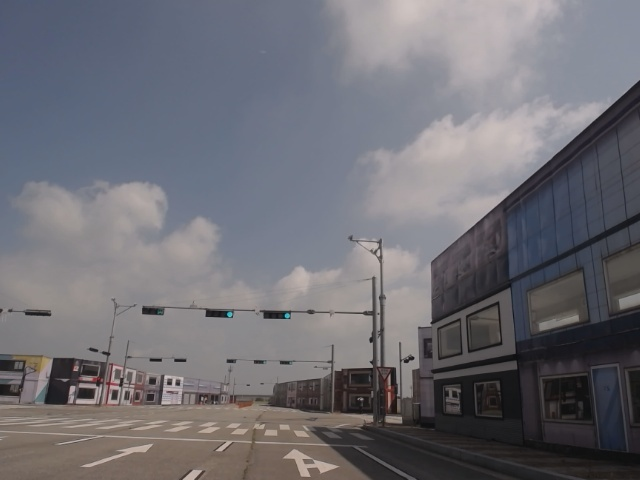straight_green_4: (203, 308, 236, 319), (264, 310, 293, 319)
